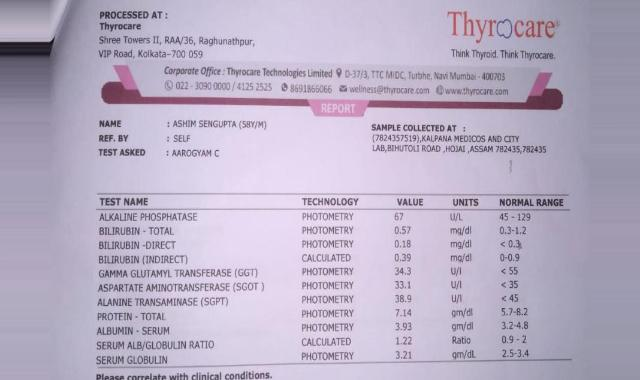Name: (172, 118, 270, 131)
Ref_By: (172, 134, 197, 146)
Reference_Range: (494, 211, 548, 361)
Technology: (297, 210, 361, 364)
Test_Asked: (169, 148, 224, 160)
Test_Name: (96, 209, 269, 368)
Unit: (442, 210, 488, 362)
Value: (387, 209, 425, 362)
